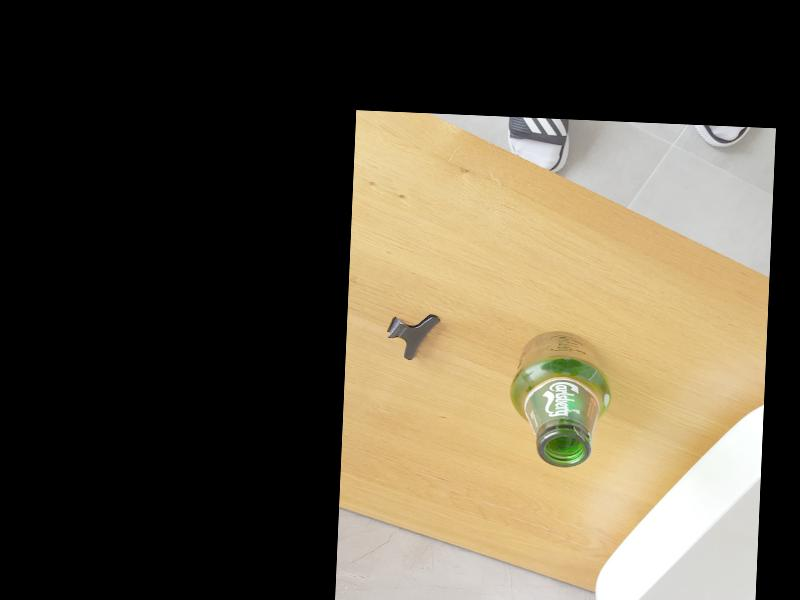Beer: (507, 329, 615, 468)
